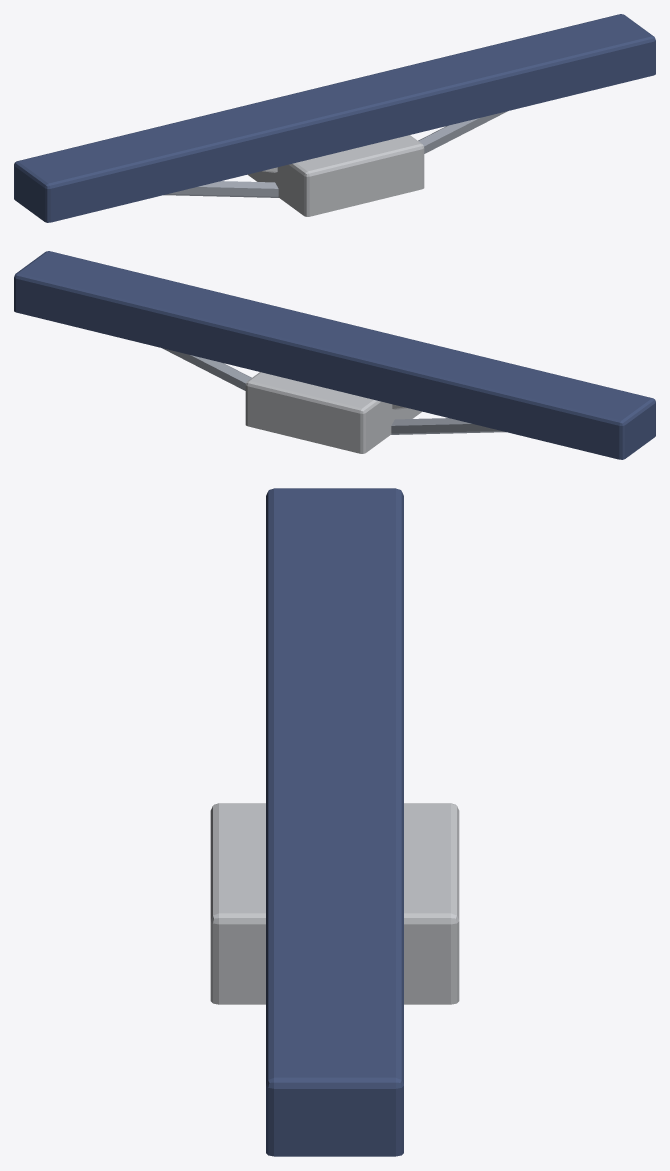
The model's file is rn2-orbital-bracket.glb.
3 renders of one model, top to bottom at view 1: azimuth 30°, elevation 25°; view 2: azimuth 150°, elevation 25°; view 3: azimuth 270°, elevation 25°, orthographic. The views are drawn at different scales.
Visible parts, largest first — view 1: rn2_orbital_bracket_body; view 2: rn2_orbital_bracket_body; view 3: rn2_orbital_bracket_body.
Part boxes in pixels (bbox=[...]): rn2_orbital_bracket_body: bbox=[14, 14, 655, 222]; rn2_orbital_bracket_body: bbox=[14, 251, 655, 459]; rn2_orbital_bracket_body: bbox=[210, 488, 459, 1156].
Bounding box in the file's own units: 10.2 × 1.37 × 1.8.
